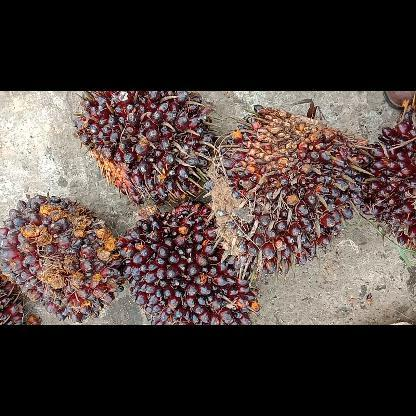Kurang masak: (204, 102, 364, 280), (115, 200, 265, 324), (0, 190, 128, 324), (70, 91, 216, 203), (356, 118, 414, 256)
